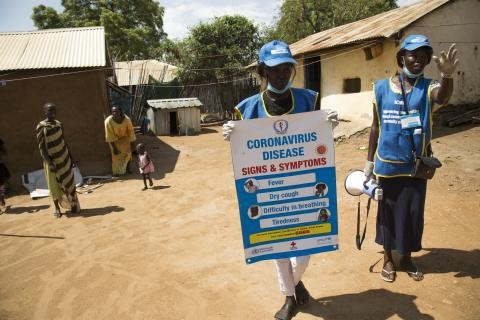Person: (213, 34, 343, 318), (355, 32, 461, 290), (29, 91, 89, 219), (100, 102, 168, 203)
